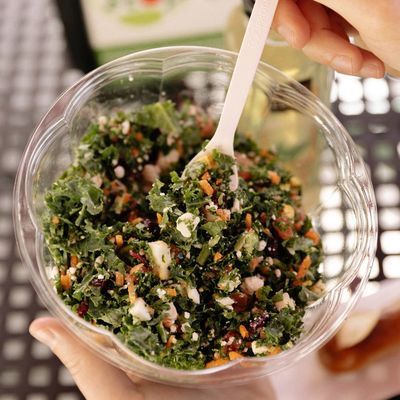salad: (174, 0, 279, 212)
sushi: (16, 61, 378, 400)
